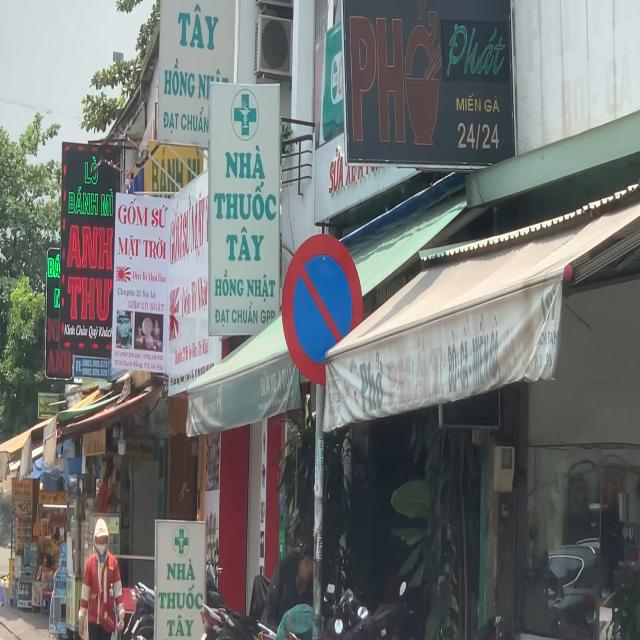Cam do: (281, 234, 364, 386)
